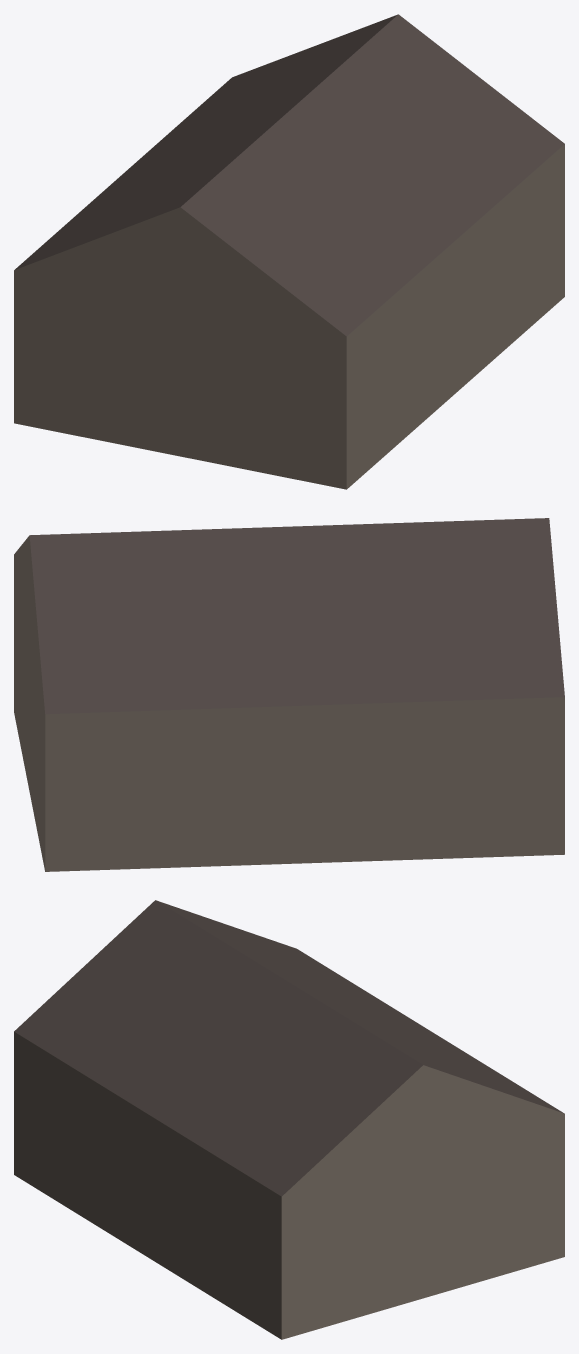
3 views of the same model, one above another, from view 1: azimuth 30°, elevation 25°; view 2: azimuth 150°, elevation 25°; view 3: azimuth 270°, elevation 25° (orthographic). The views are drawn at different scales.
Parts seen in each view (by area): view 1: HP-w859424138; view 2: HP-w859424138; view 3: HP-w859424138.
Part boxes in pixels (x1,y1,x2,y2): HP-w859424138: [14, 14, 564, 489]; HP-w859424138: [14, 518, 564, 871]; HP-w859424138: [14, 900, 564, 1339].
Bounding box in the file's own units: 22.28 × 9.78 × 20.92.
